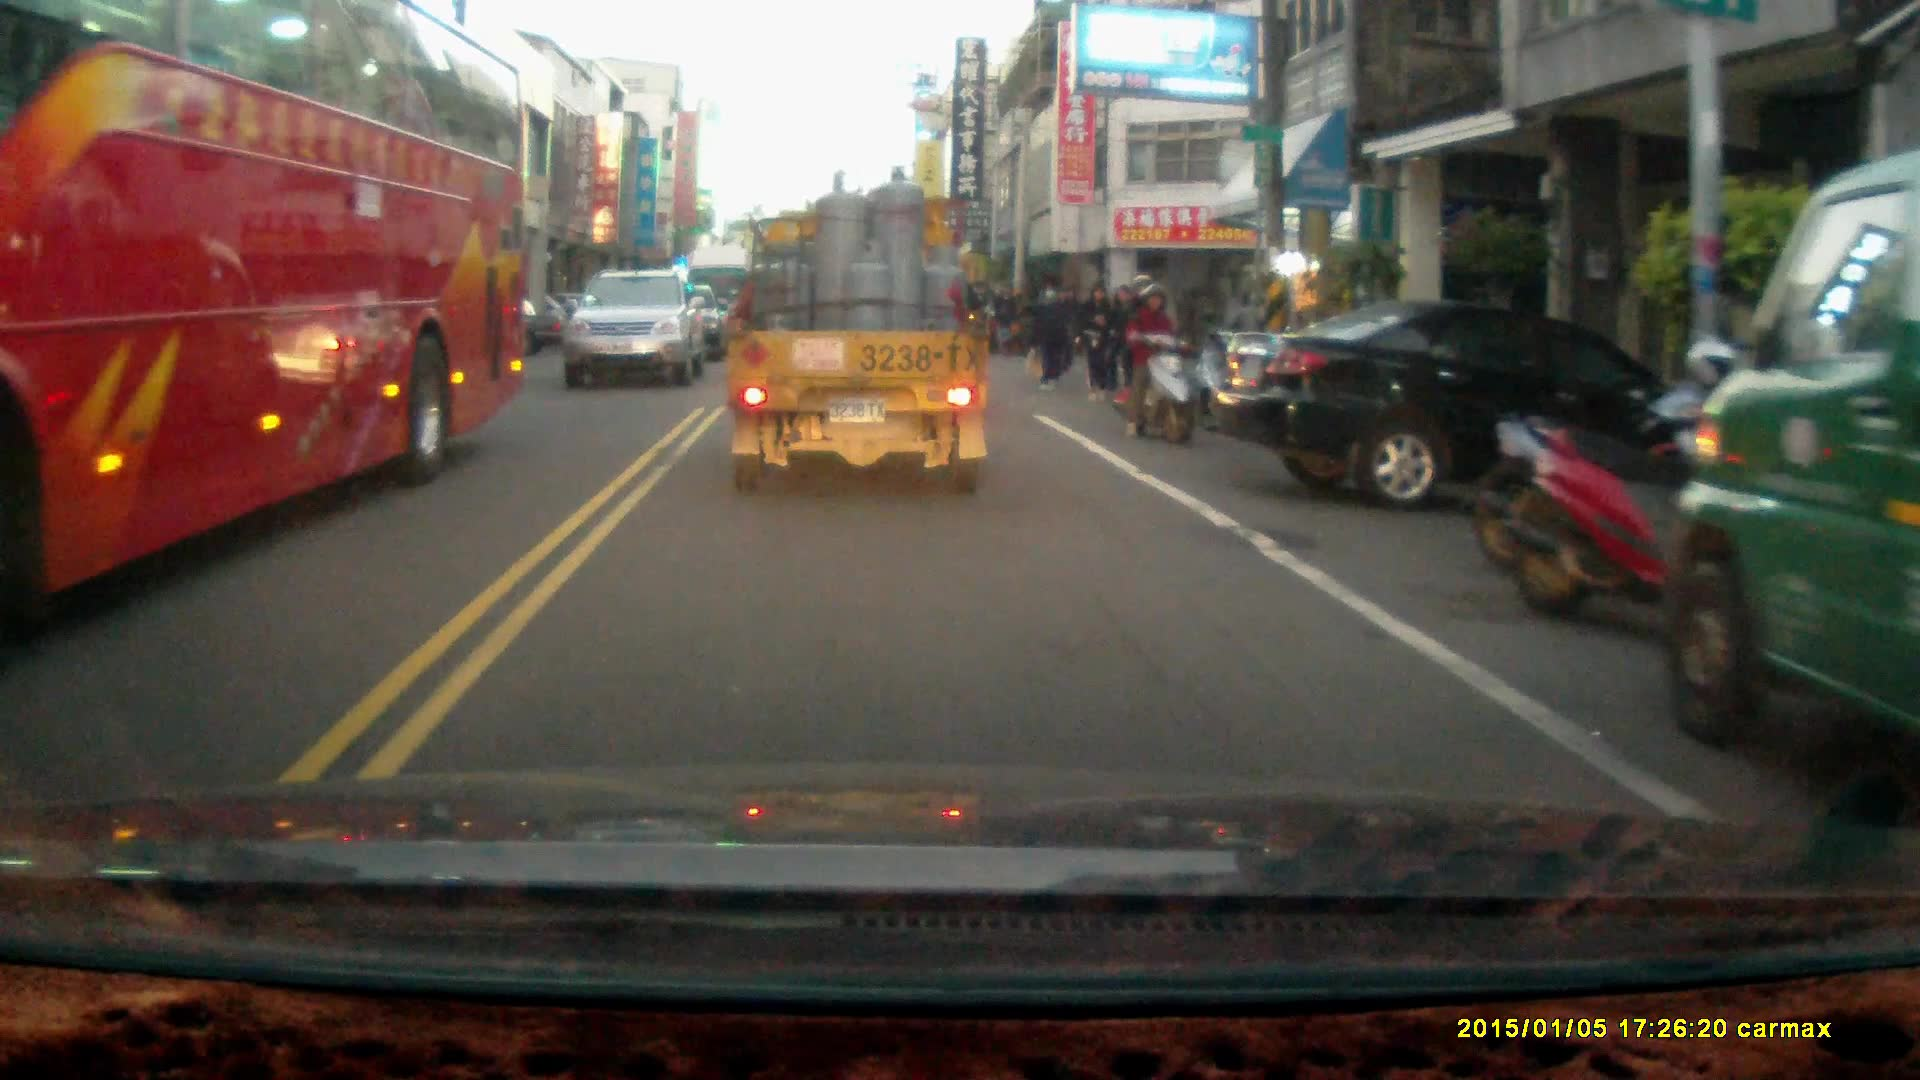pedestrian: (1080, 283, 1119, 404), (1030, 280, 1072, 390), (993, 281, 1019, 356)
rider: (1119, 272, 1194, 444)
vehicle: (1, 7, 537, 625), (1667, 146, 1920, 740), (1203, 302, 1739, 507), (723, 163, 997, 499), (562, 269, 708, 391)
